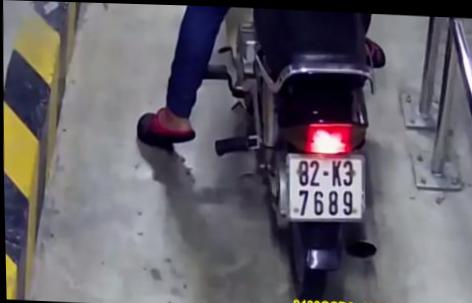LP: (285, 151, 366, 222)
